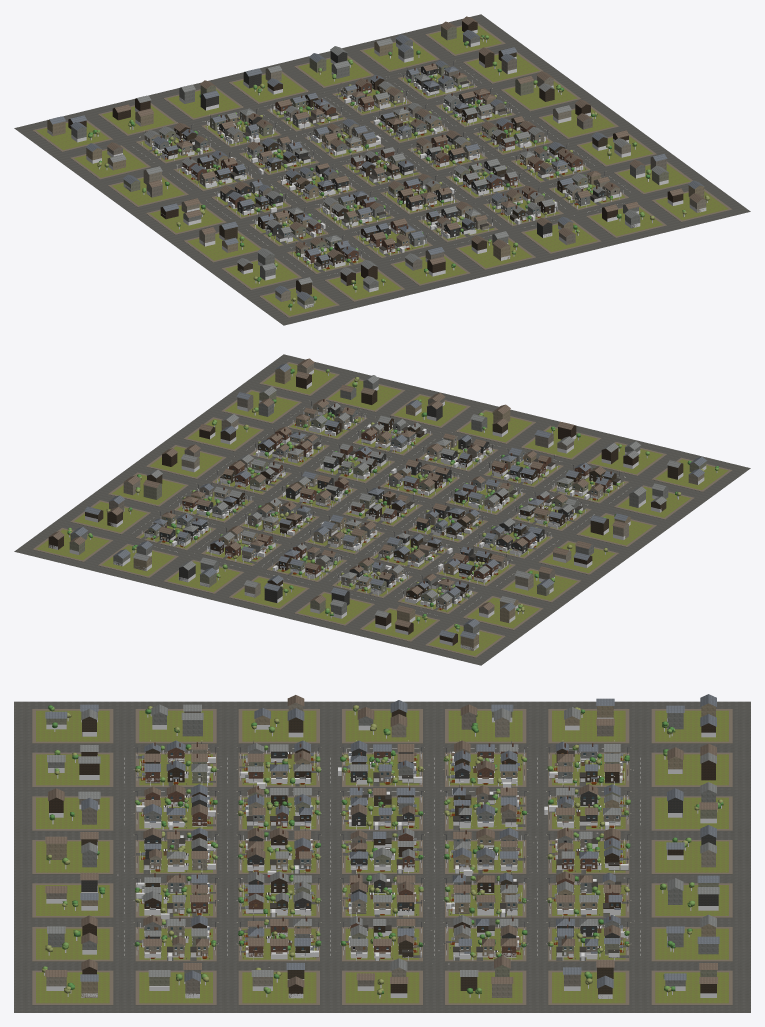
The model's file is map_suburb.glb.
3 views of the same model, one above another, from view 1: azimuth 30°, elevation 25°; view 2: azimuth 150°, elevation 25°; view 3: azimuth 270°, elevation 25° (orthographic). The views are drawn at different scales.
Visible parts, largest first — view 1: Houses, Ground_road, Ground_grass, Ground_sidewalk, Trees, Ground_drive, StreetLamps; view 2: Houses, Ground_road, Ground_grass, Ground_sidewalk, Trees, Ground_drive, StreetLamps; view 3: Ground_road, Houses, Ground_grass, Ground_sidewalk, Trees, Ground_drive, StreetLamps, Furniture.
Part boxes in pixels (x1=…): Houses: x1=47, y1=16, x2=706, y2=308; Ground_road: x1=14, y1=14, x2=750, y2=325; Ground_grass: x1=36, y1=25, x2=728, y2=315; Ground_sidewalk: x1=32, y1=23, x2=732, y2=317; Trees: x1=88, y1=35, x2=709, y2=307; Ground_drive: x1=148, y1=83, x2=601, y2=272; StreetLamps: x1=140, y1=59, x2=624, y2=267; Houses: x1=48, y1=358, x2=707, y2=650; Ground_road: x1=14, y1=354, x2=750, y2=665; Ground_grass: x1=36, y1=363, x2=728, y2=655; Ground_sidewalk: x1=32, y1=362, x2=732, y2=657; Trees: x1=67, y1=369, x2=718, y2=629; Ground_drive: x1=141, y1=422, x2=623, y2=610; StreetLamps: x1=140, y1=399, x2=624, y2=607; Ground_road: x1=14, y1=701, x2=750, y2=1012; Houses: x1=45, y1=694, x2=719, y2=998; Ground_grass: x1=36, y1=710, x2=728, y2=1003; Ground_sidewalk: x1=32, y1=709, x2=732, y2=1005; Trees: x1=42, y1=705, x2=723, y2=994; Ground_drive: x1=136, y1=756, x2=628, y2=960; StreetLamps: x1=133, y1=740, x2=631, y2=955; Furniture: x1=140, y1=751, x2=624, y2=958.
Bounding box in the file's own units: 400 × 12.42 × 400.
48 materials, 20 textured.
